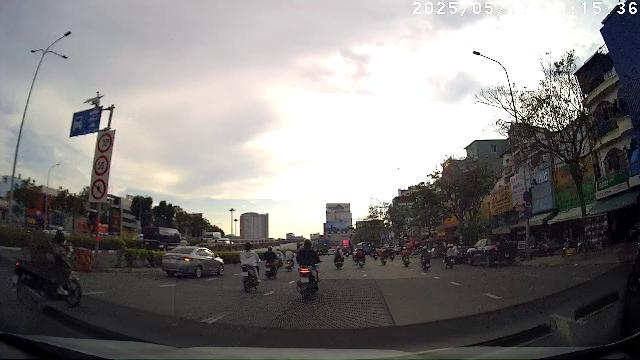127-toc-do-toi-da-50: (93, 154, 109, 176)
